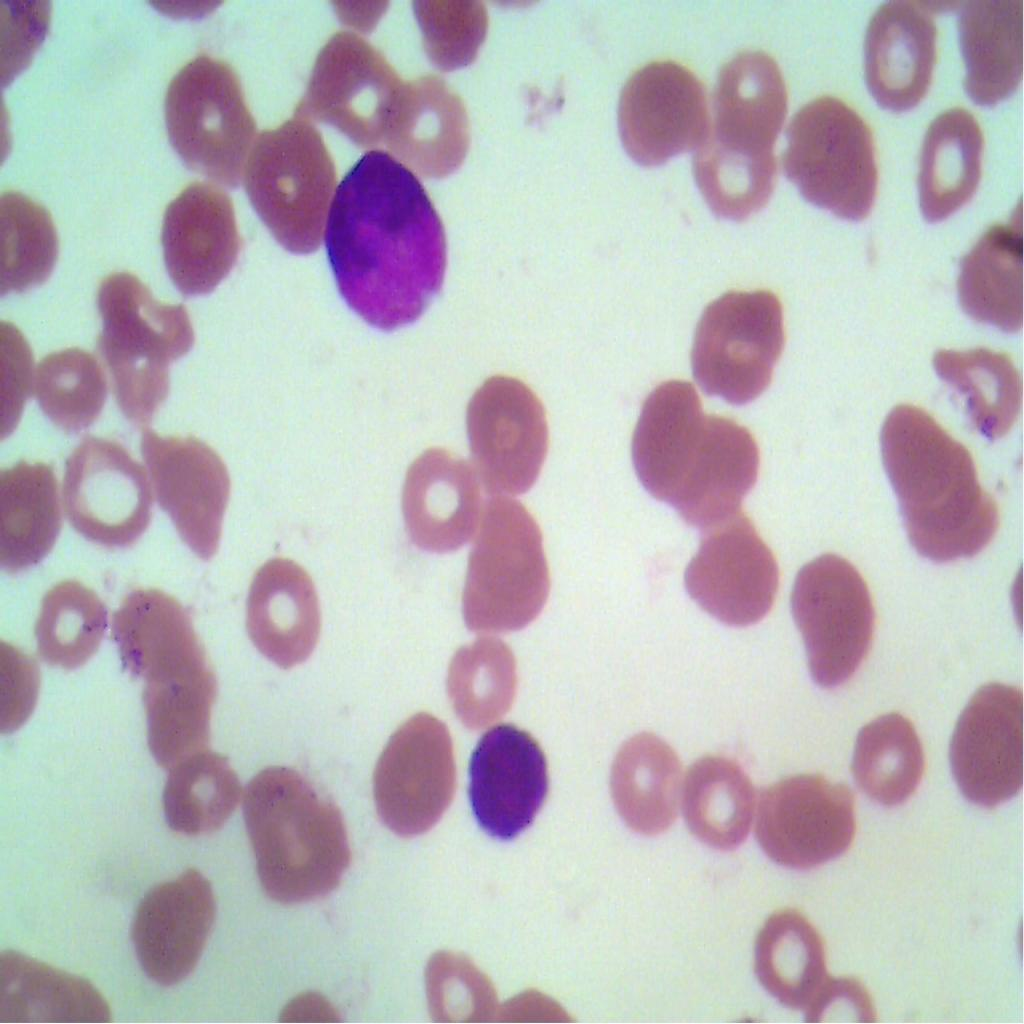Eritrosit: (442, 475, 563, 639), (239, 749, 358, 912), (116, 838, 218, 998), (786, 539, 884, 702), (788, 91, 889, 238), (94, 268, 198, 410), (238, 130, 344, 269), (142, 424, 240, 568), (363, 691, 455, 841), (692, 266, 786, 408), (910, 97, 996, 249), (696, 518, 795, 648), (918, 322, 1024, 441), (910, 448, 1004, 581), (166, 41, 258, 174), (378, 62, 479, 180), (155, 180, 253, 299), (855, 0, 948, 125), (616, 58, 715, 172), (311, 18, 396, 142), (148, 740, 246, 847), (238, 550, 326, 669), (476, 364, 554, 498), (688, 109, 778, 225), (669, 404, 756, 524), (758, 765, 855, 871), (749, 895, 836, 1010), (58, 434, 148, 544), (955, 678, 1023, 820), (402, 425, 480, 547), (944, 215, 1023, 334), (634, 358, 699, 502), (713, 47, 790, 162), (112, 575, 194, 682), (144, 648, 218, 762), (34, 565, 106, 682), (849, 696, 918, 818), (28, 338, 109, 441), (678, 741, 746, 859), (876, 390, 946, 504), (955, 6, 1023, 118), (613, 725, 684, 831), (438, 625, 516, 721), (0, 458, 66, 570), (426, 925, 488, 1023)
Limfoblast: (315, 145, 449, 340), (460, 707, 554, 856)
